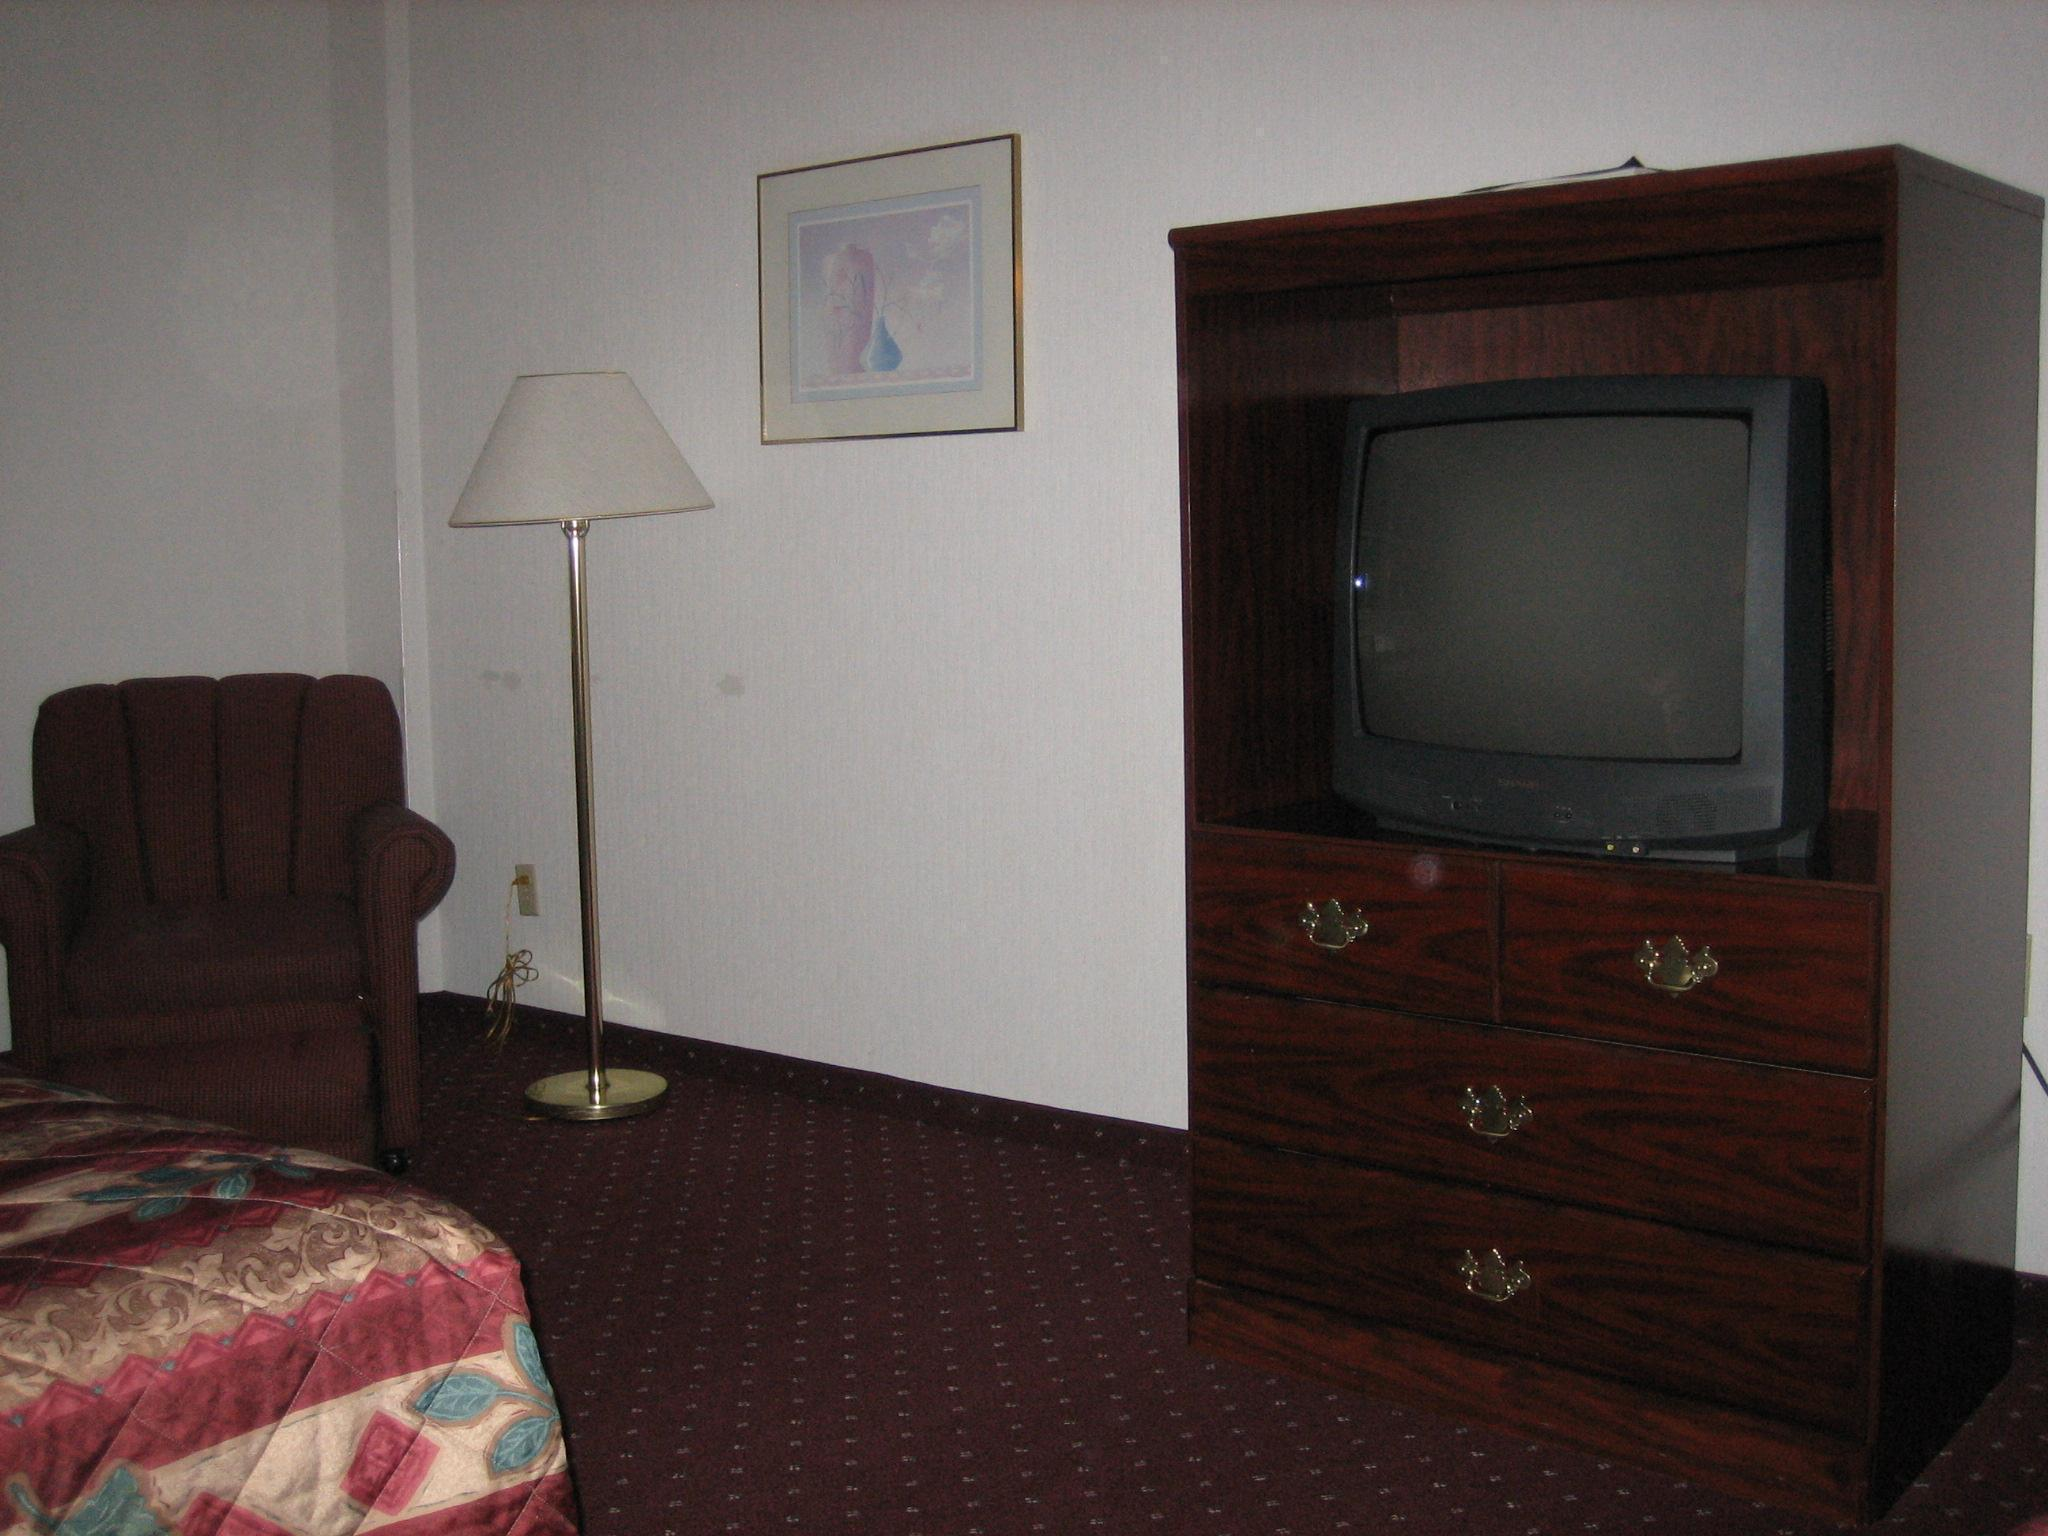Armario: (1206, 232, 2014, 1499)
Cama: (15, 1099, 561, 1526)
Otro Obstaculo: (455, 361, 727, 1121)
